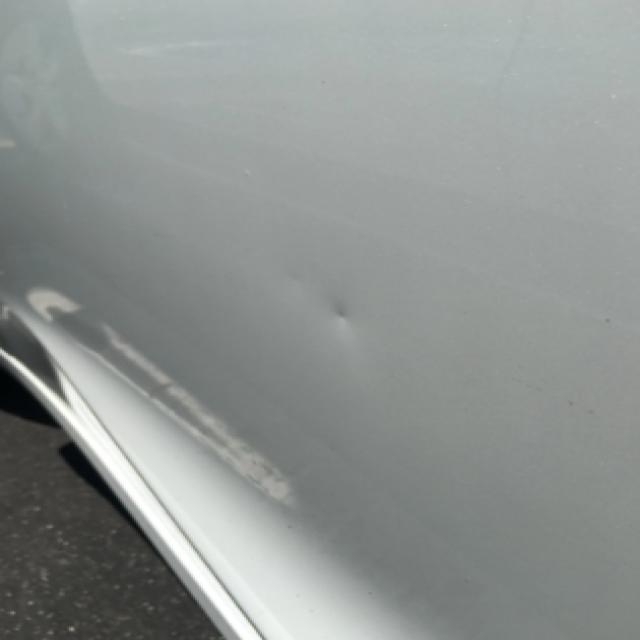dents: (280, 257, 401, 359)
